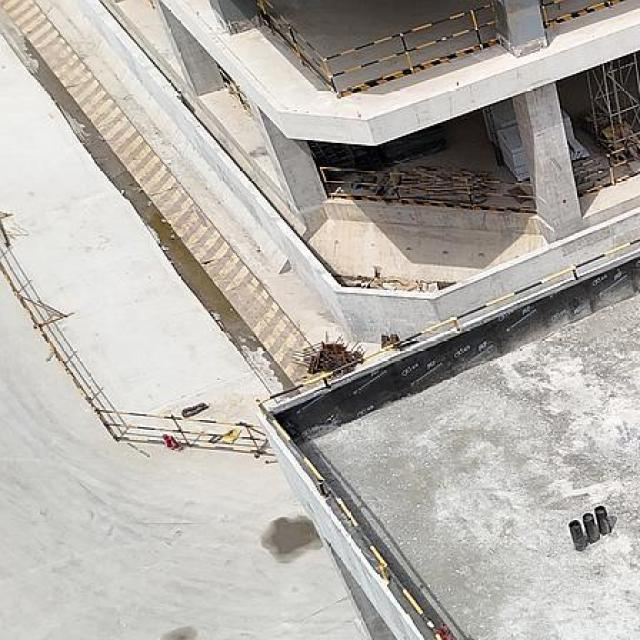edge_guardrail: (254, 237, 640, 640), (255, 0, 499, 99), (318, 164, 536, 210), (573, 139, 640, 198), (541, 0, 618, 26), (219, 68, 247, 106)
